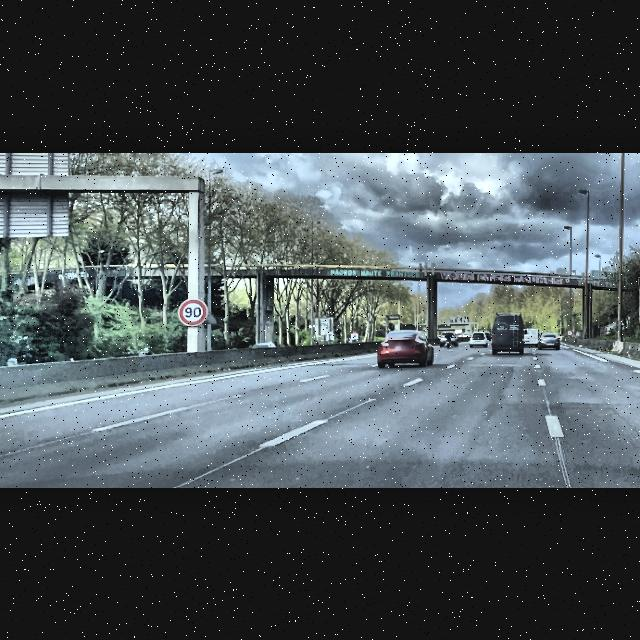speed_90: (177, 298, 207, 326)
